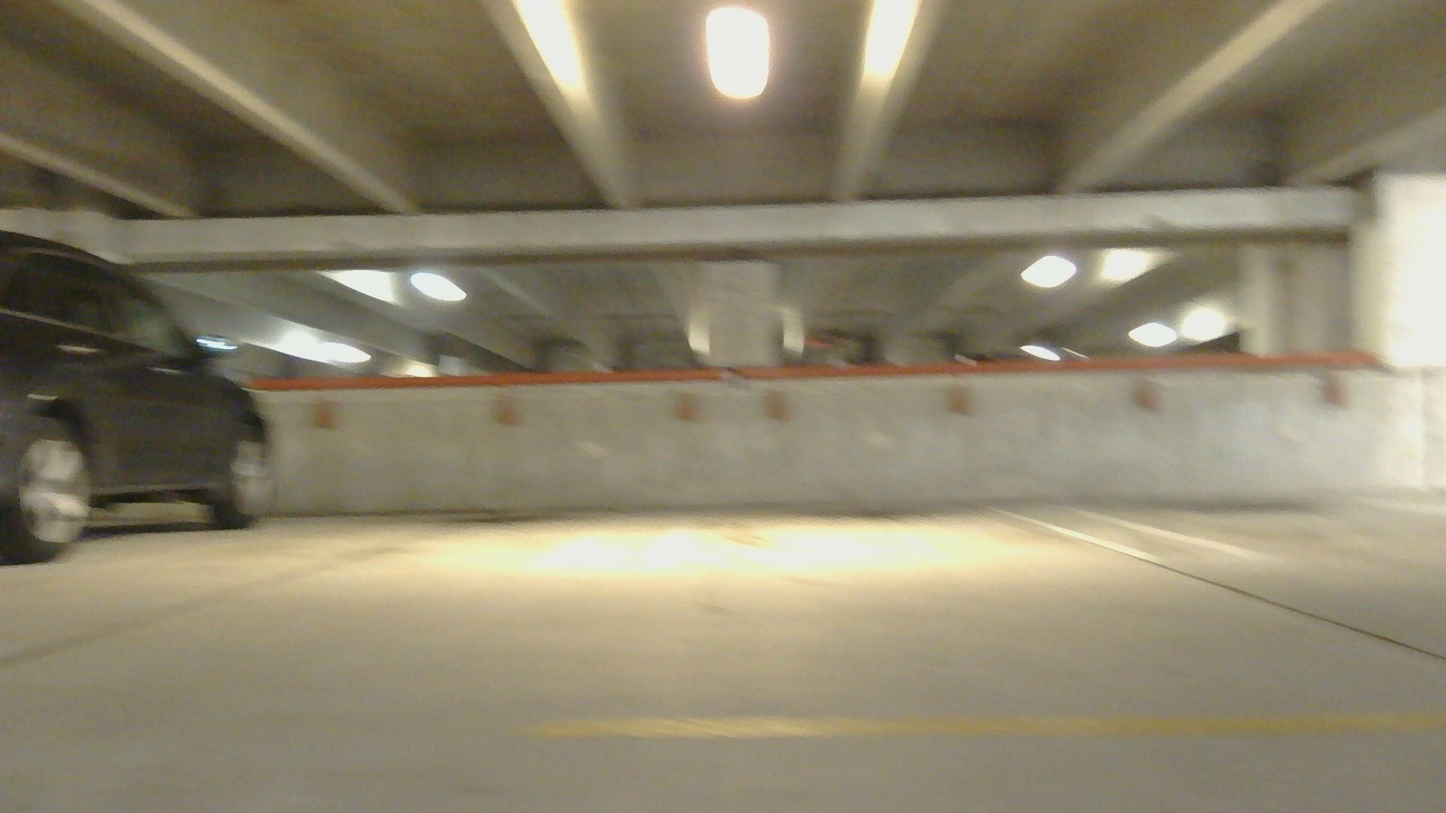empty_spot: (54, 432, 653, 605), (604, 434, 1170, 584), (1035, 432, 1446, 565)
occupied_spot: (0, 225, 288, 584)
